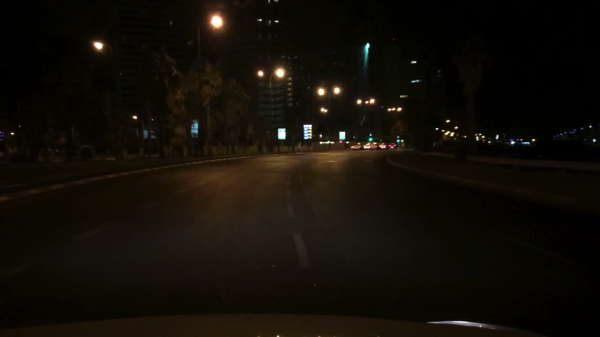car: (363, 142, 377, 150), (350, 144, 361, 150), (378, 142, 386, 150), (387, 144, 397, 149)
traffic light: (368, 137, 373, 142), (396, 139, 401, 142)
traffic sign: (135, 129, 159, 138), (278, 128, 286, 140), (338, 131, 345, 141), (191, 122, 198, 129), (190, 129, 198, 134), (191, 134, 198, 139), (191, 119, 198, 122)
